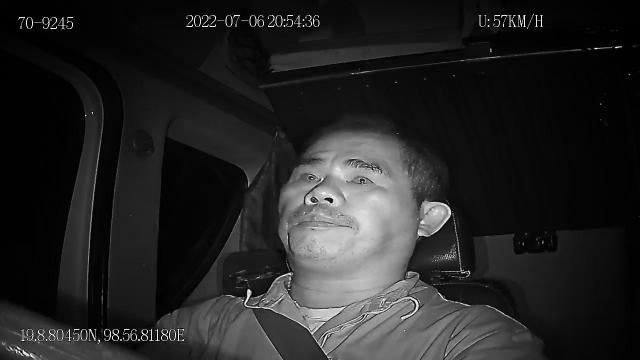SafeDriving: (340, 166, 380, 190), (290, 164, 326, 188)
Seatbelt: (221, 272, 335, 360)
